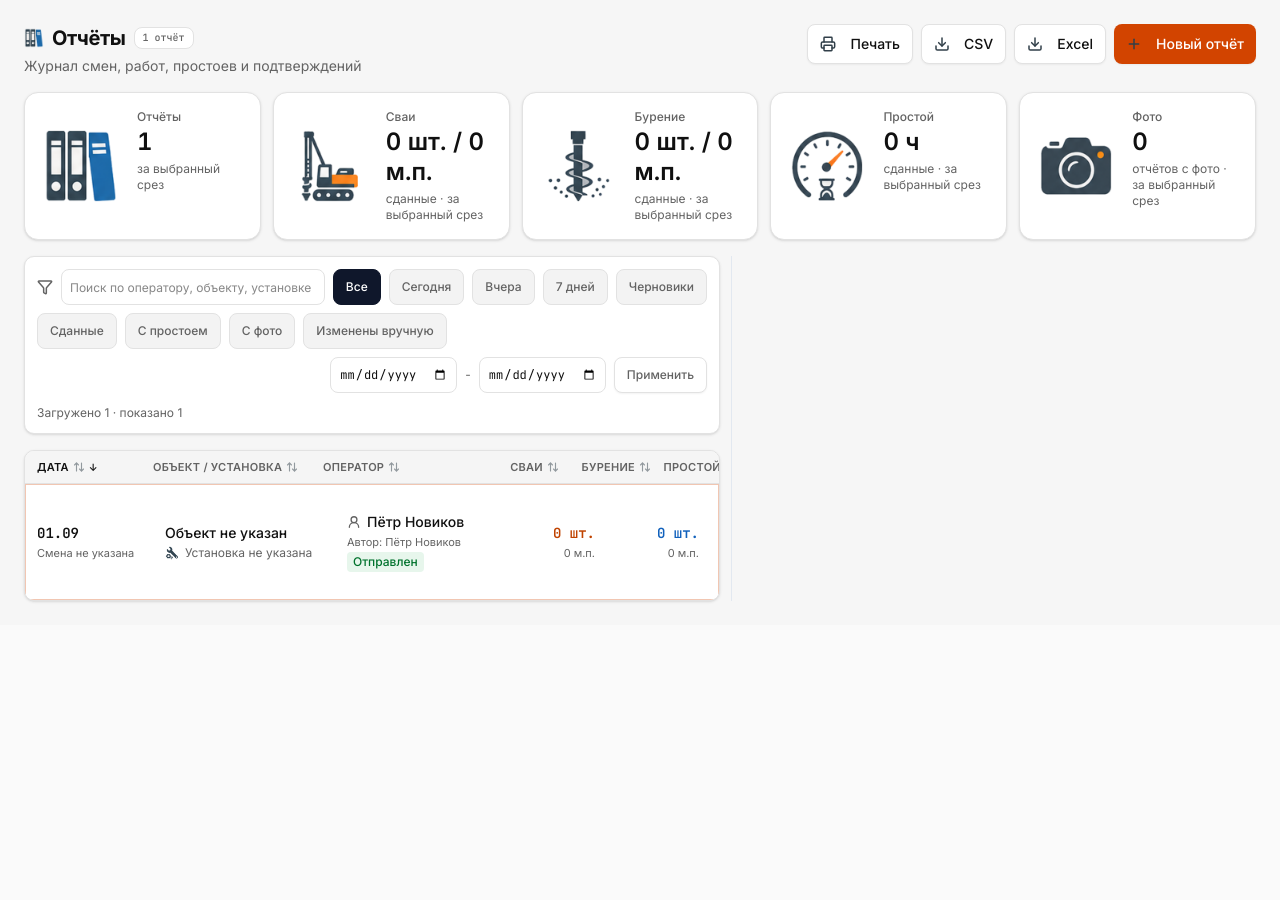
Scenario: AdminReports — пустой клиентский отбор сохраняет догрузку (F-N1004-EMPTY-PAGE) › пусто при hasMore=false — обычное отсутствие результатов, кнопки догрузки нет
Type "сидоров" into the field named "Поиск по оператору, объекту или установке".
click(193, 287); type("сидоров")  # box top-left (61, 269), bottom-right (325, 305)
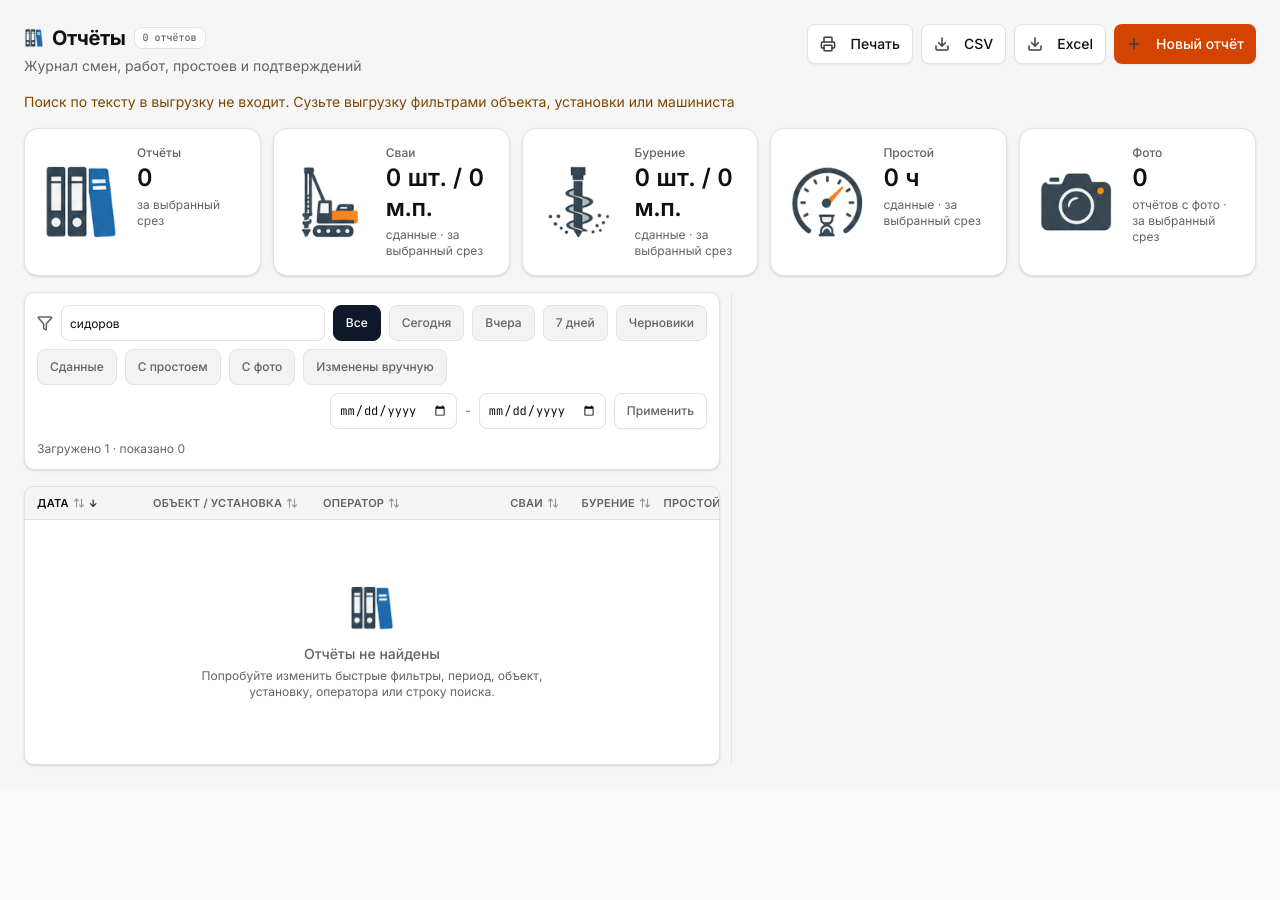
Check: the text "Попробуйте изменить быстрые фильтры" is shown, box top-left (202, 668), bottom-right (542, 699)
